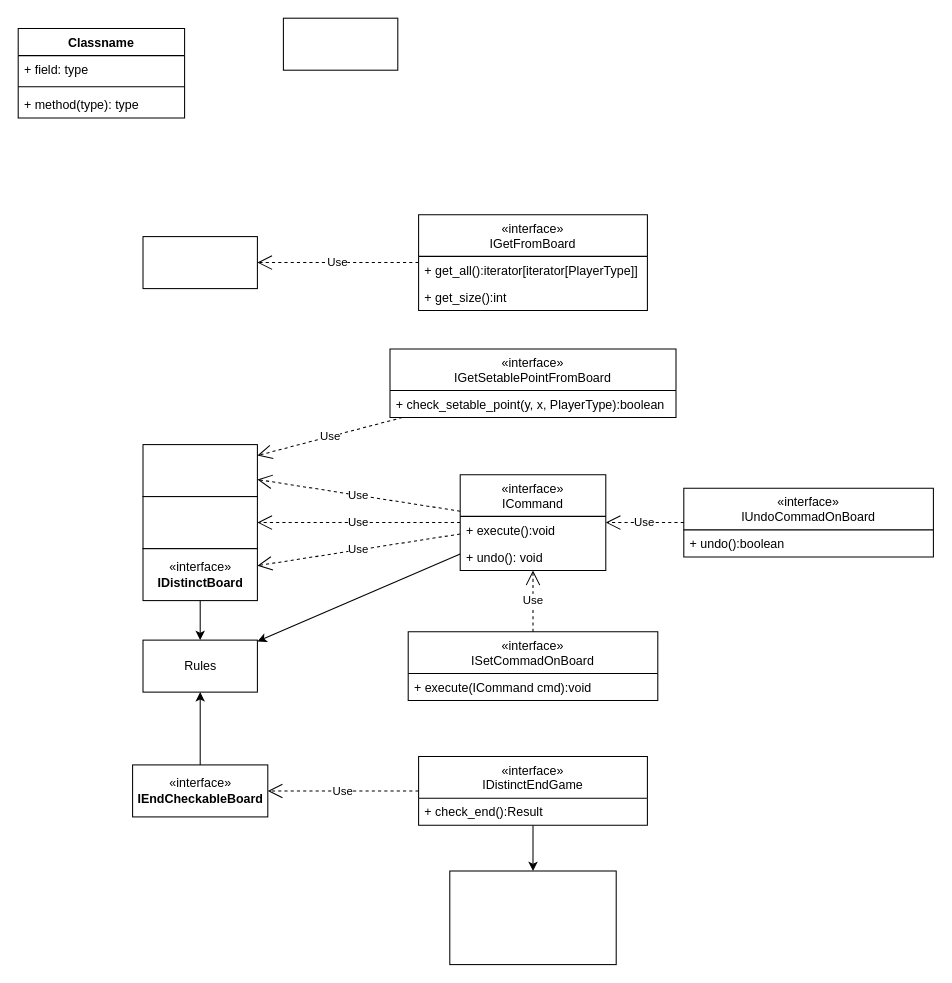
Image size: 952x983. Some labels were removed from this diagram. The shapes that lost their labels are listed below. From the top down, each one's centre as x and y in pixels, then its label:
At pixel 340 43: "«interface» Name".
At pixel 199 262: "«interface» IGetableBoard".
At pixel 199 470: "«interface» ISetableBoard".
At pixel 199 522: "«interface» ISquareBoard".
At pixel 532 917: "Result:Msg winner = P1 or P2 draw = draw pass = not end".
